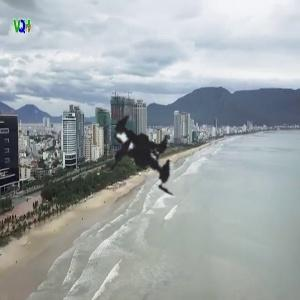drone: (7, 19, 263, 275)
